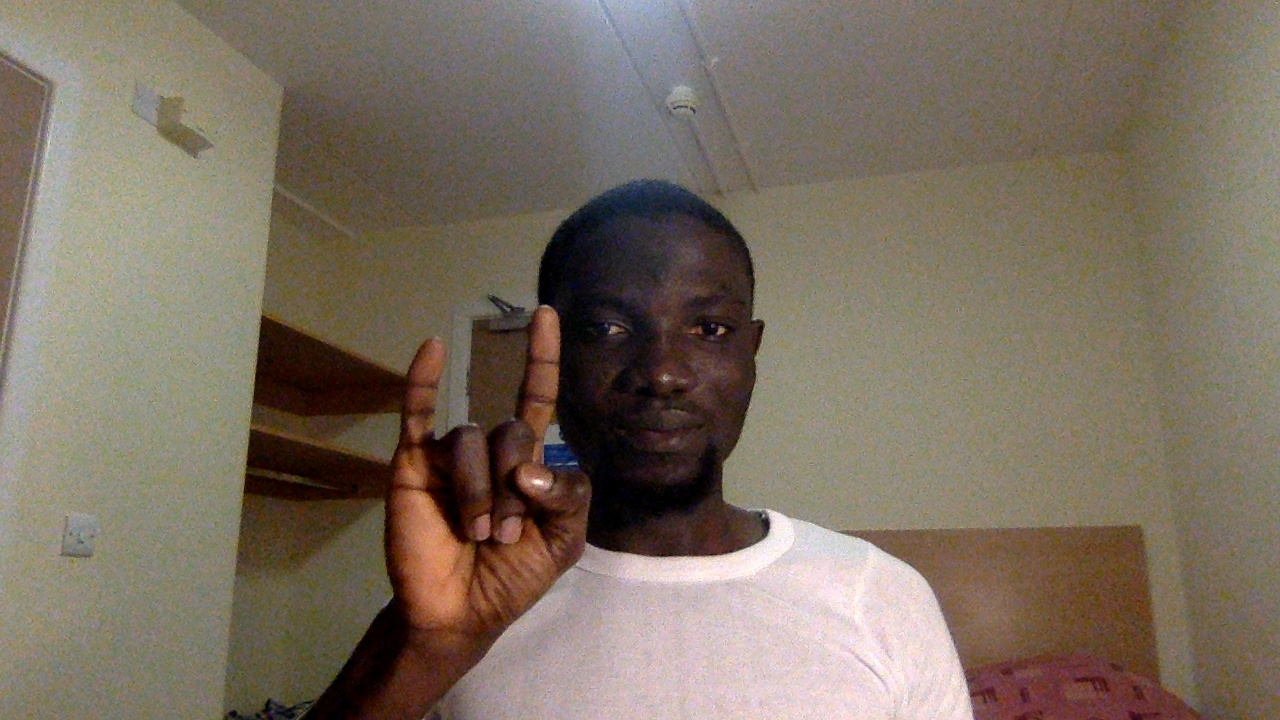I Love You: (378, 306, 602, 642)
